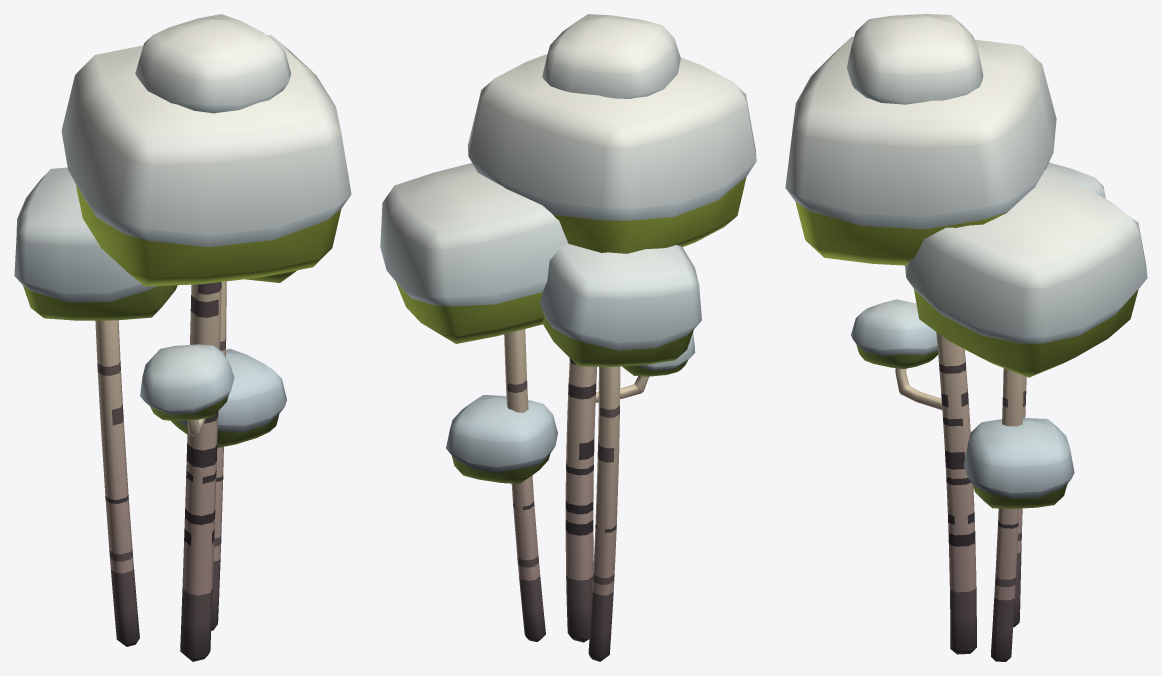
Rendered from birch_tree_col1_05_snow.fbx.
3 renders of one model, left to right at view 1: azimuth 30°, elevation 25°; view 2: azimuth 150°, elevation 25°; view 3: azimuth 270°, elevation 25°, orthographic. The views are drawn at different scales.
Visible parts, largest first — view 1: birch_tree_col1_05_snow; view 2: birch_tree_col1_05_snow; view 3: birch_tree_col1_05_snow.
Boxes of the visible parts, x1,y1,x2,y2 form: birch_tree_col1_05_snow: (14,14,351,661); birch_tree_col1_05_snow: (380,14,756,661); birch_tree_col1_05_snow: (785,14,1147,661).
Size of the model in its own units: 435 by 819 by 432.
Materials: 1 (1 with a texture image).
